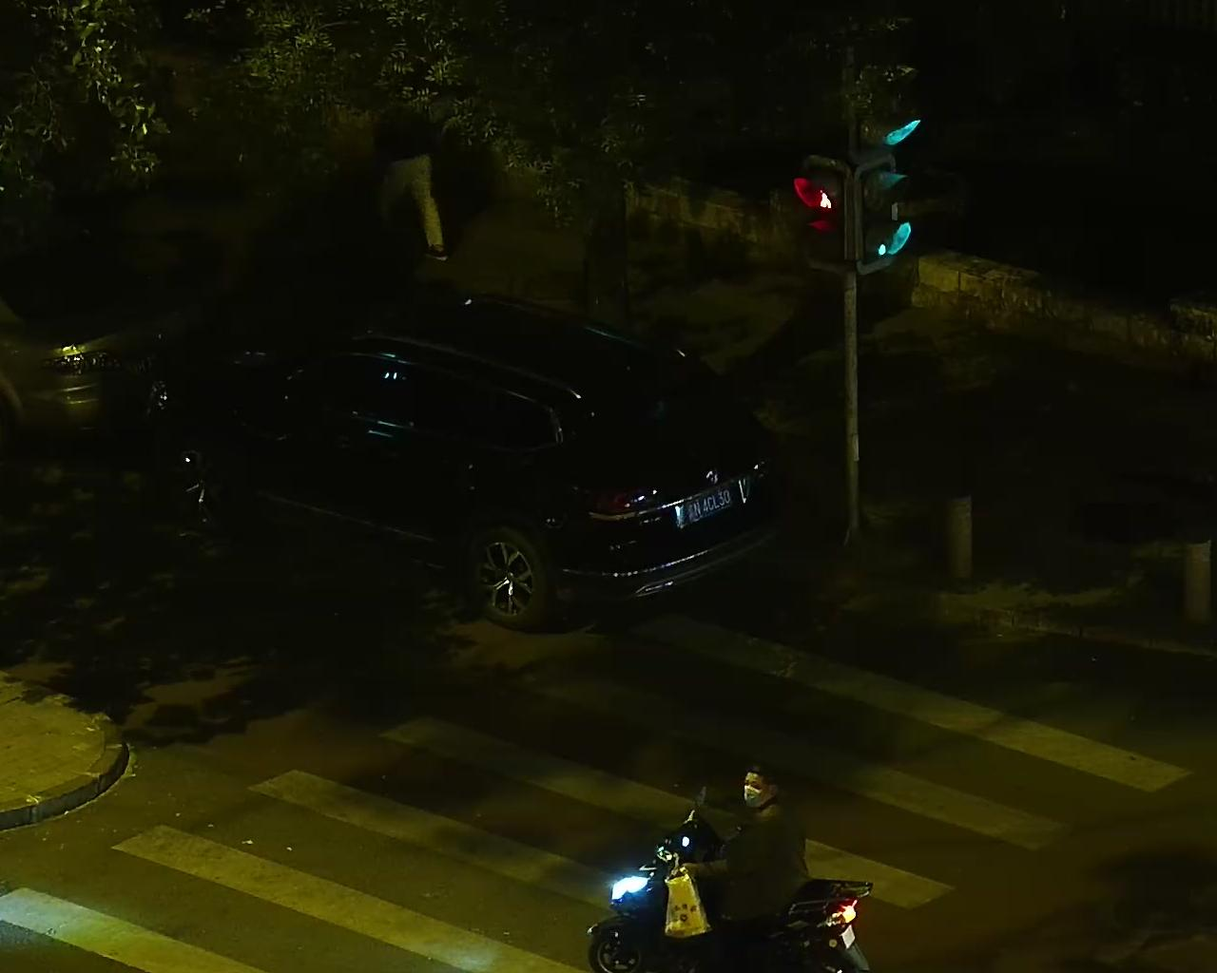person: (685, 744, 863, 973), (337, 74, 471, 270)
